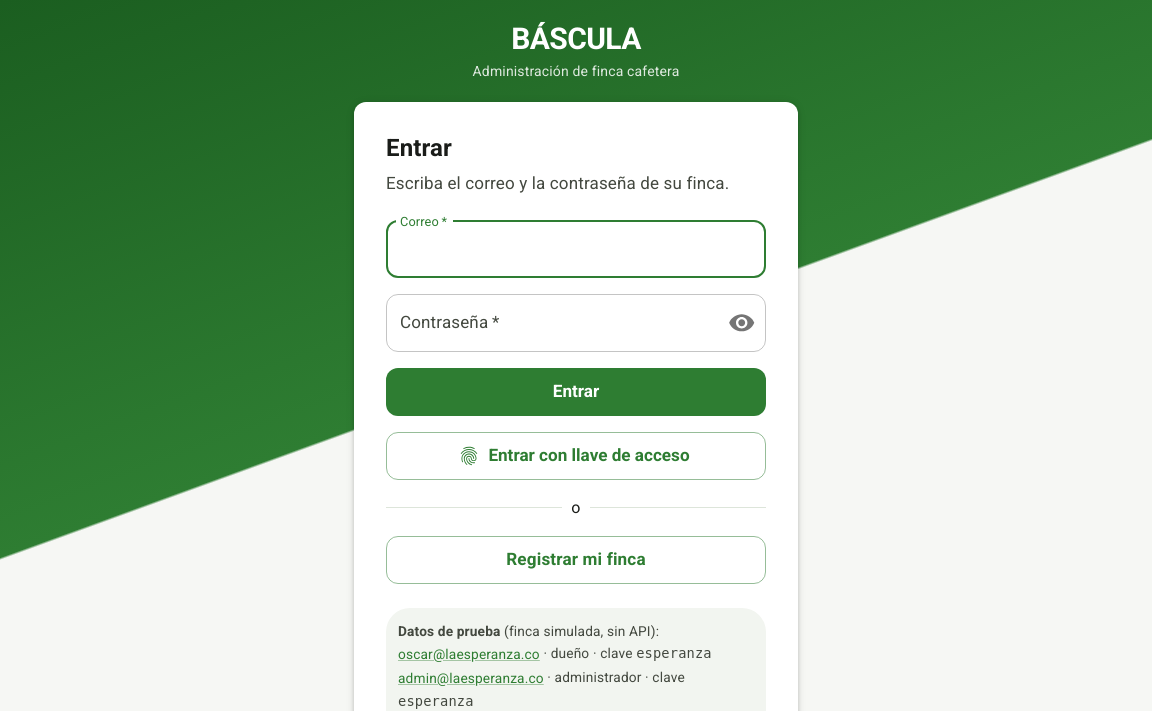
Scenario: signing in › says so, once, when the password is wrong
Type "oscar@laesperanza.co" into the field labelled "Correo *" at (576, 249), box [386,221,766,278]
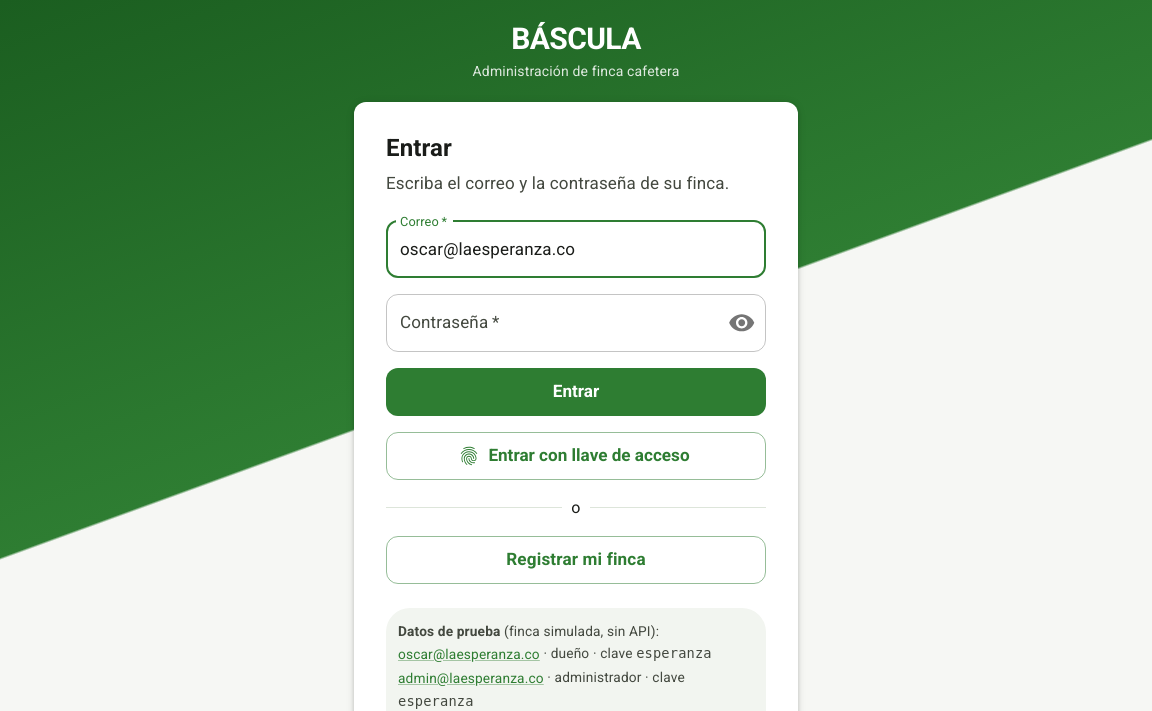
Type "equivocada" into the password field labelled "Contraseña *" at (549, 323), box [386,294,712,352]
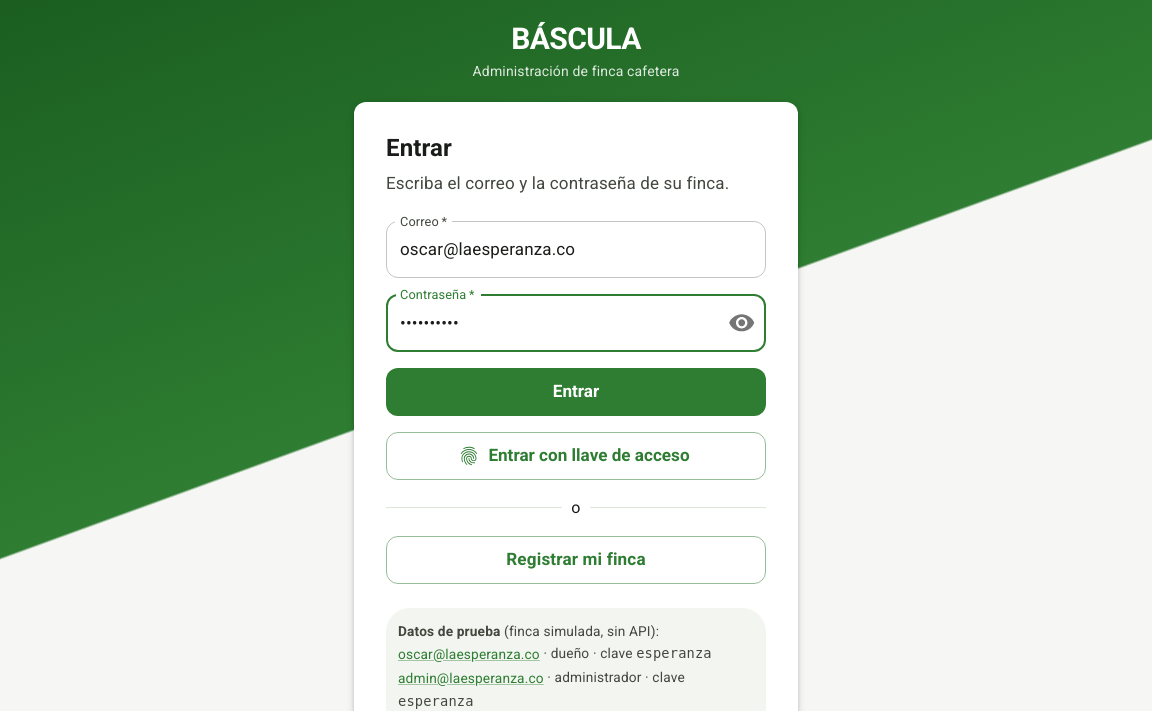
Click the button "Entrar" at (576, 392), box [386,368,766,416]
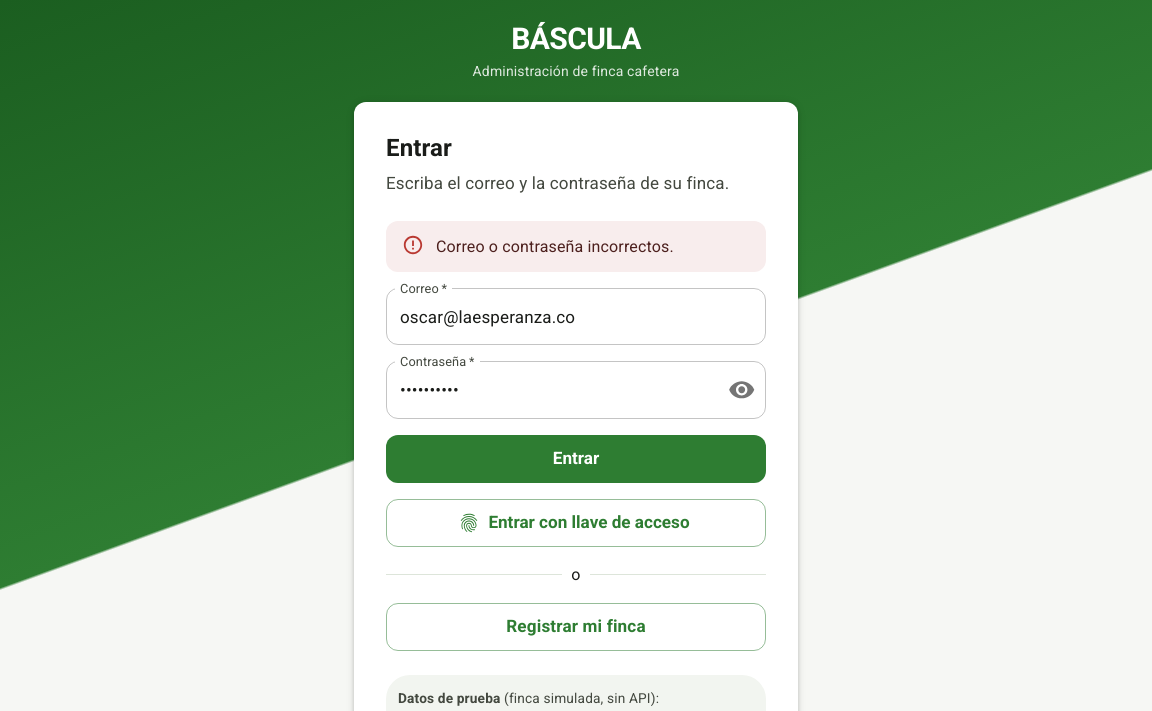
Result: the text "Correo o contraseña incorrectos." is shown at [436,237,674,256]
